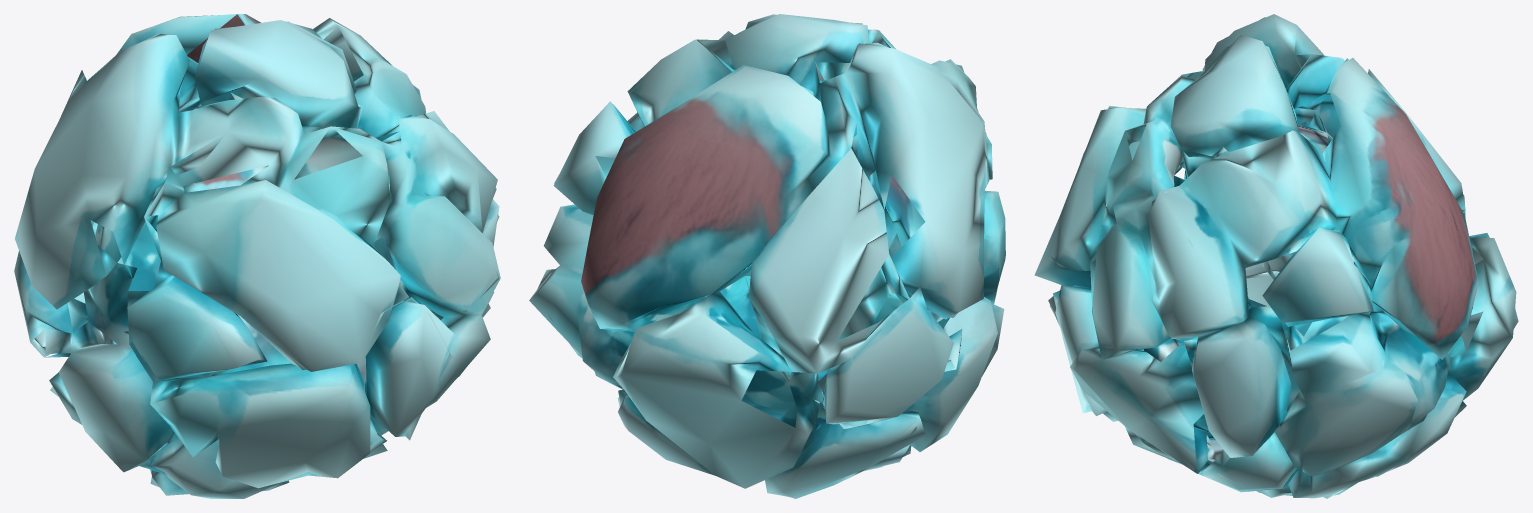
Rendered from led-glyba-kolotaya.glb.
3 renders of one model, left to right at view 1: azimuth 30°, elevation 25°; view 2: azimuth 150°, elevation 25°; view 3: azimuth 270°, elevation 25°, orthographic. The views are drawn at different scales.
Visible parts, largest first — view 1: geometry_0; view 2: geometry_0; view 3: geometry_0.
Boxes of the visible parts, left/top/right/bottom form: geometry_0: left=14, top=14, right=500, bottom=498; geometry_0: left=529, top=14, right=1005, bottom=498; geometry_0: left=1034, top=14, right=1518, bottom=498.
Bounding box in the file's own units: 0.8625 × 0.9509 × 0.9753.
Materials: 1 (1 with a texture image).
